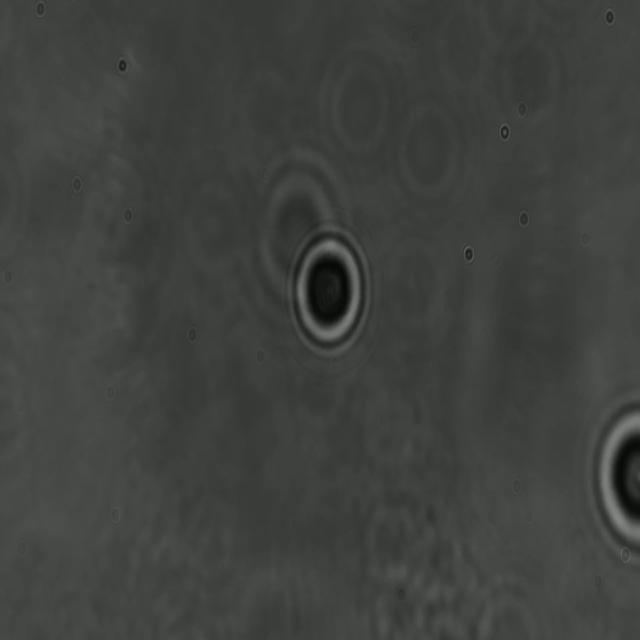DCELL: (288, 217, 372, 360)
